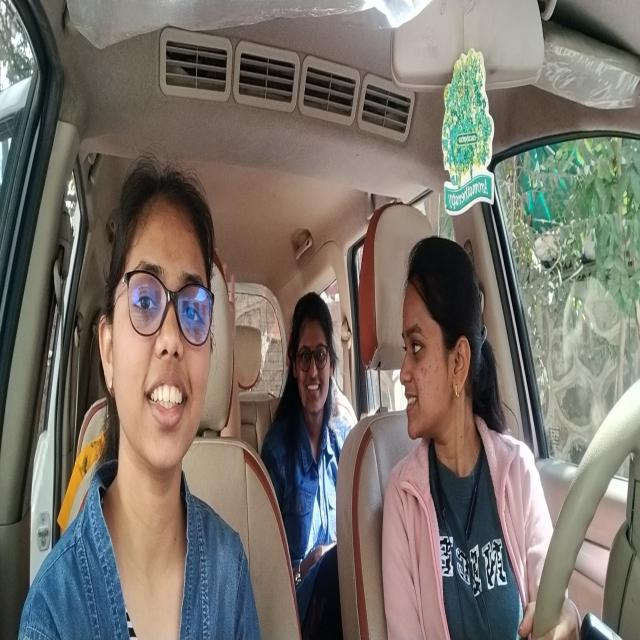LeftRight: (399, 232, 480, 454)
person: (98, 140, 220, 505), (289, 287, 338, 428)
talking: (403, 382, 420, 419)
